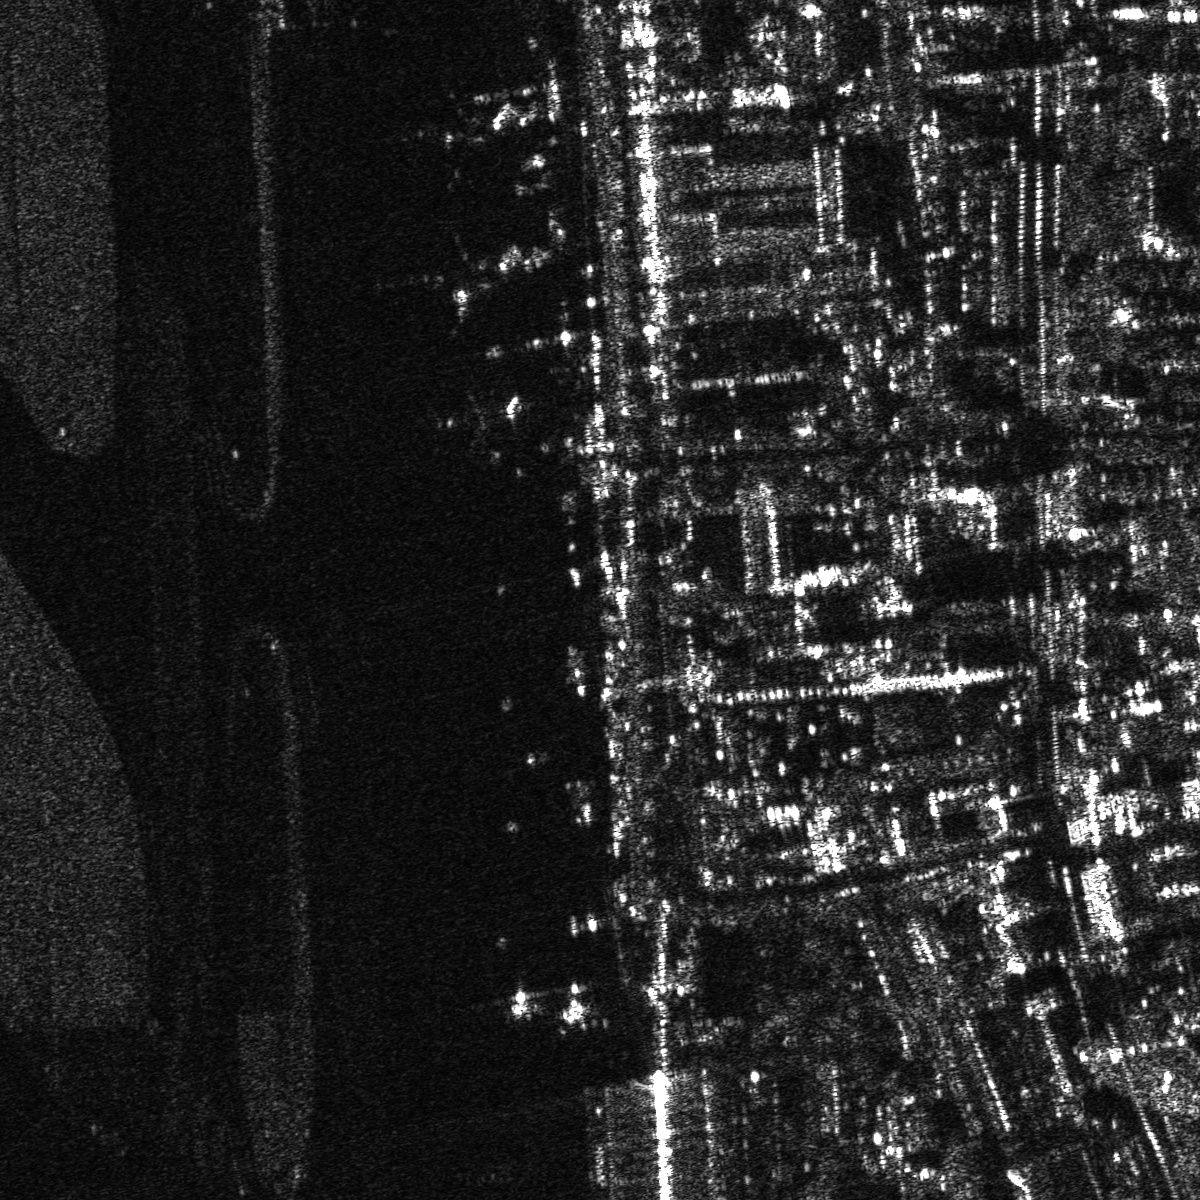ARJ21: (364, 216, 522, 338)
other: (390, 87, 515, 198), (430, 384, 529, 465)
